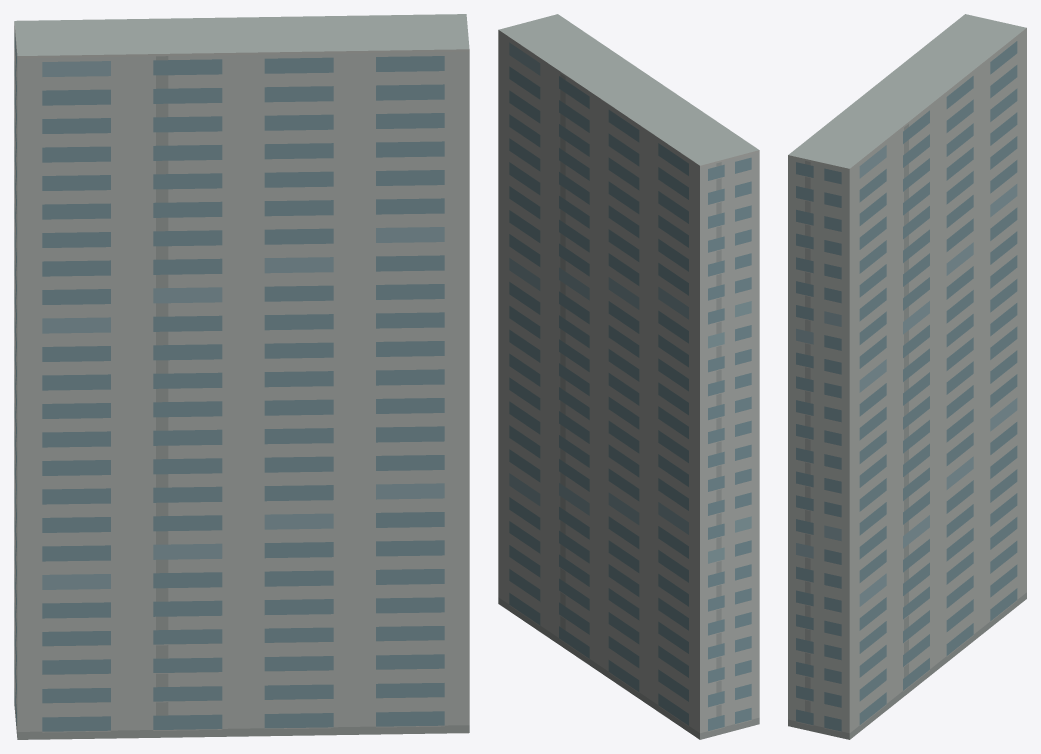
Rendered from residential-9bb70c14-7c41-4133-b7bc-47db5a6e591c.glb.
The picture shows the model from 3 angles, left to right: view 1: azimuth 30°, elevation 25°; view 2: azimuth 150°, elevation 25°; view 3: azimuth 270°, elevation 25°; orthographic projection. The views are drawn at different scales.
Parts seen in each view (by area): view 1: residential-9bb70c14-7c41-4133-b7bc-47db5a6e591c.tmp; view 2: residential-9bb70c14-7c41-4133-b7bc-47db5a6e591c.tmp; view 3: residential-9bb70c14-7c41-4133-b7bc-47db5a6e591c.tmp.
Boxes of the visible parts, bbox=[...] form: residential-9bb70c14-7c41-4133-b7bc-47db5a6e591c.tmp: bbox=[14, 14, 469, 739]; residential-9bb70c14-7c41-4133-b7bc-47db5a6e591c.tmp: bbox=[498, 14, 759, 739]; residential-9bb70c14-7c41-4133-b7bc-47db5a6e591c.tmp: bbox=[788, 14, 1026, 739].
Size of the model in its own units: 42.58 by 73.2 by 27.74.
